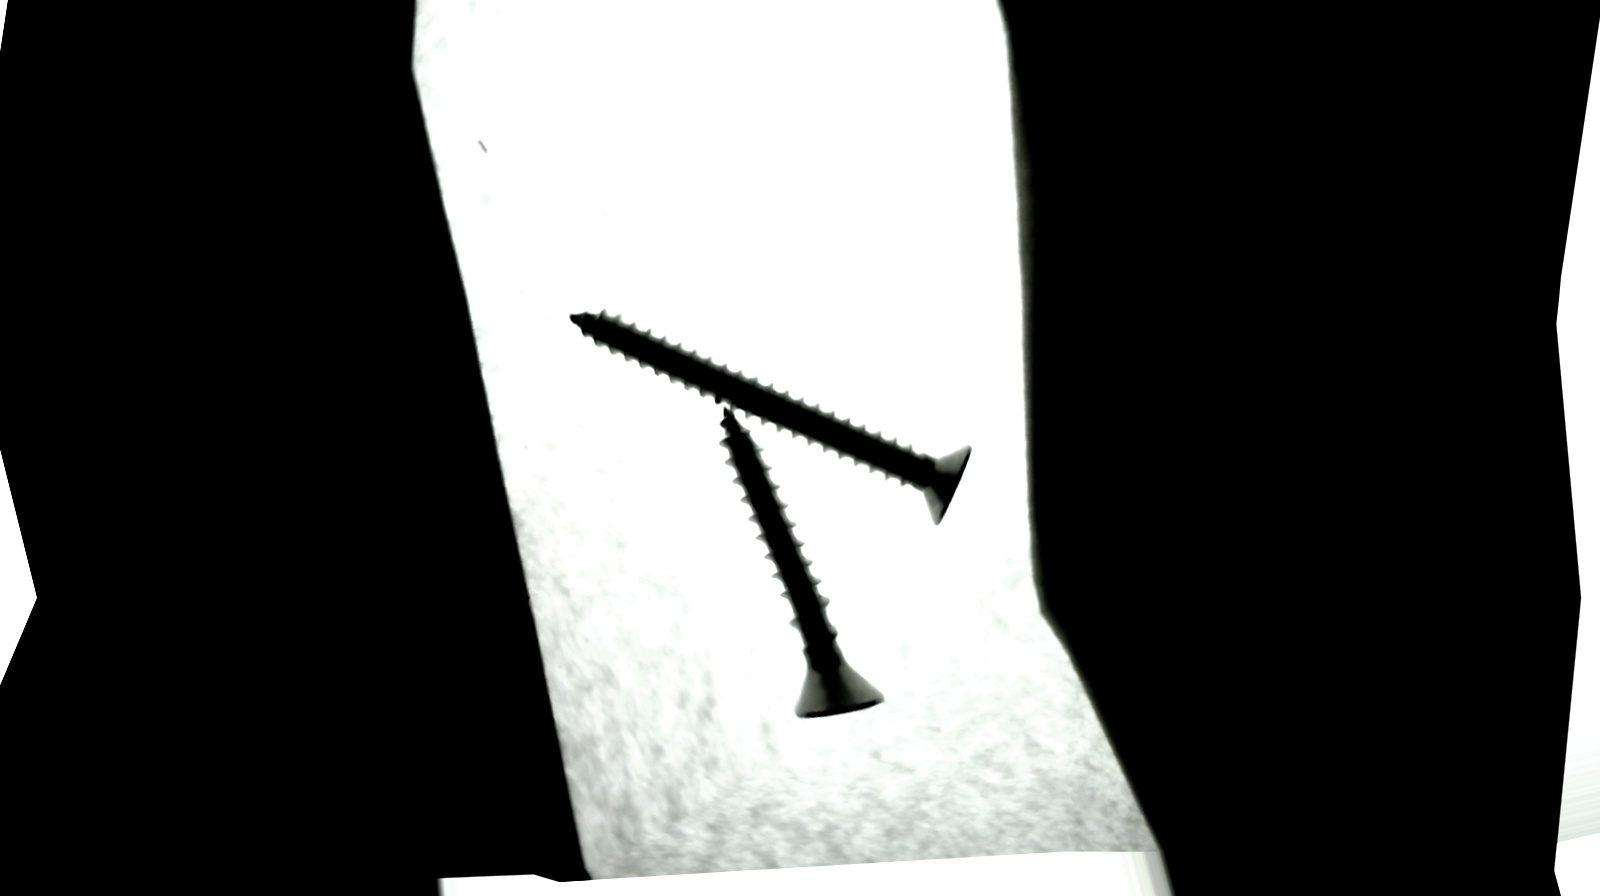S001: (714, 403, 901, 727)
S002: (571, 307, 996, 537)
